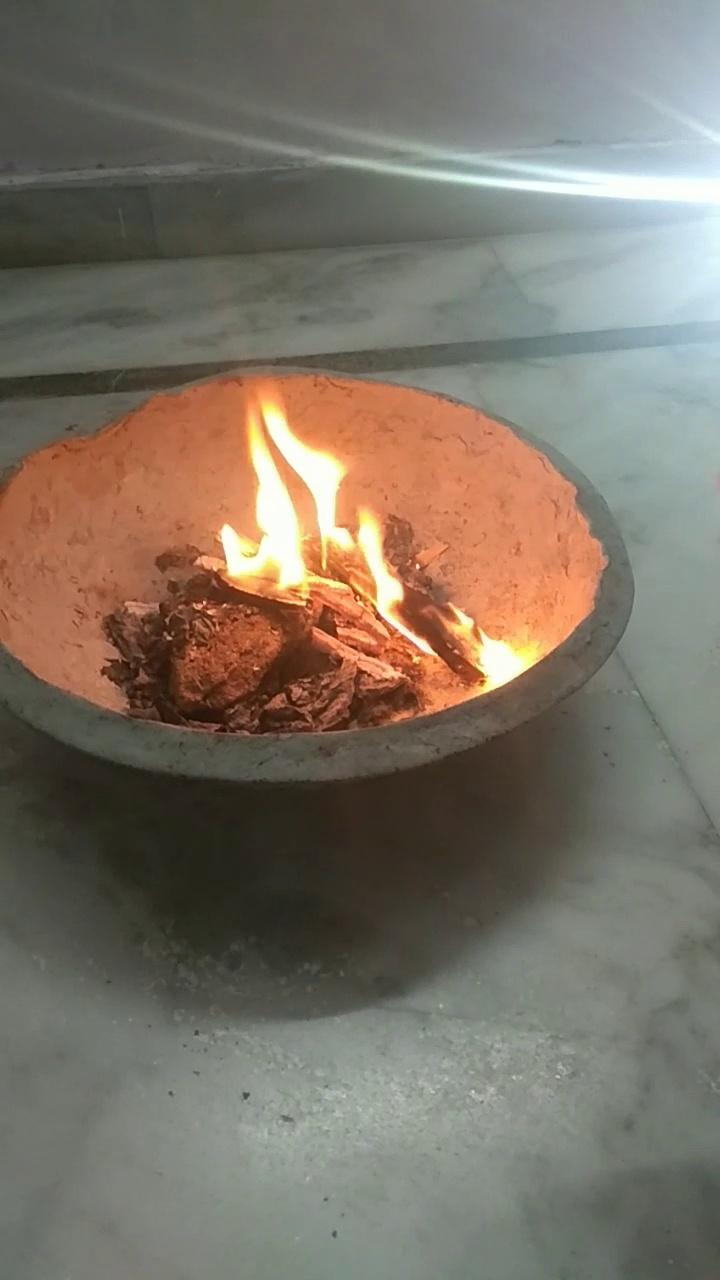fire: (209, 394, 526, 698)
